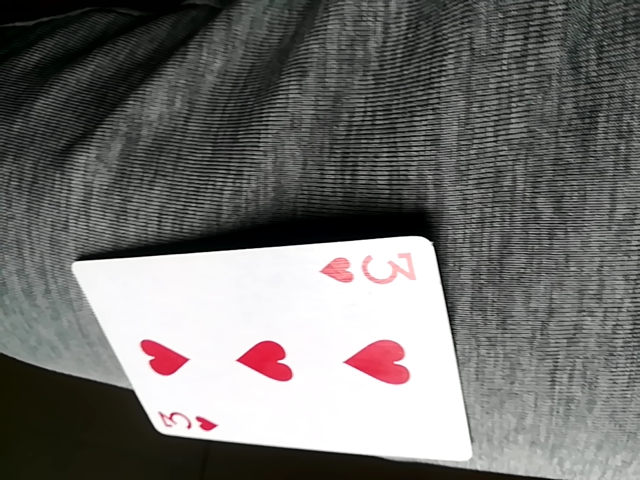hx 3: (72, 236, 476, 461)
